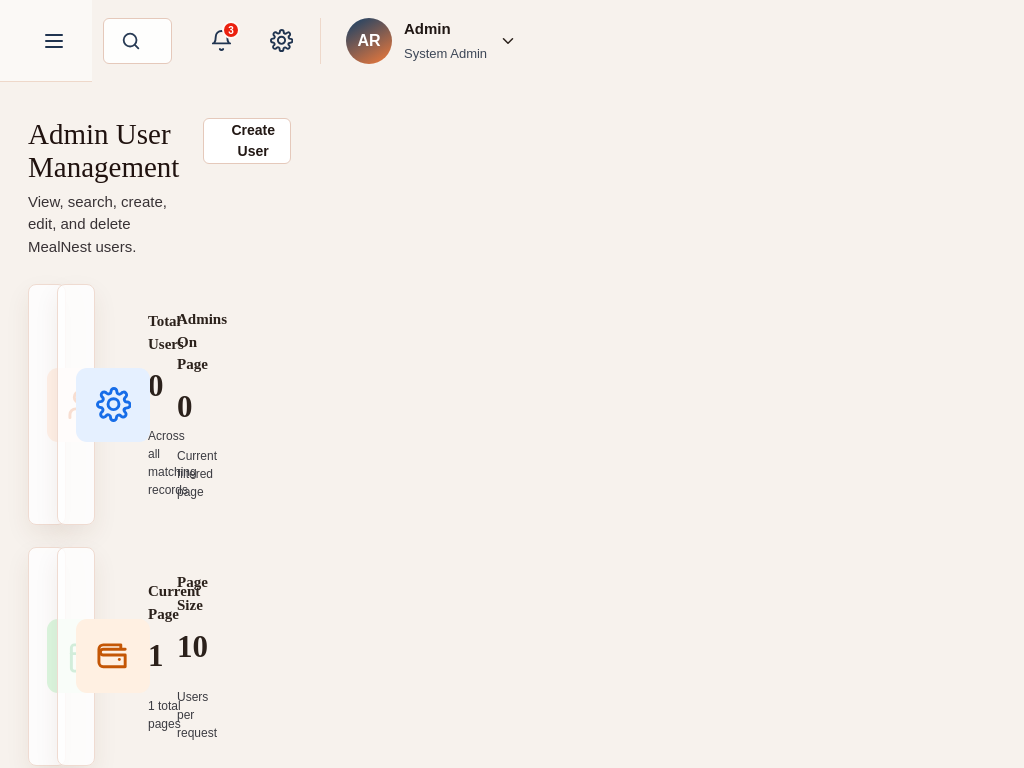
Test: keeps the modal open and shows a serializable action error
Click the button "Create User": (247, 141) [203,118,291,164]
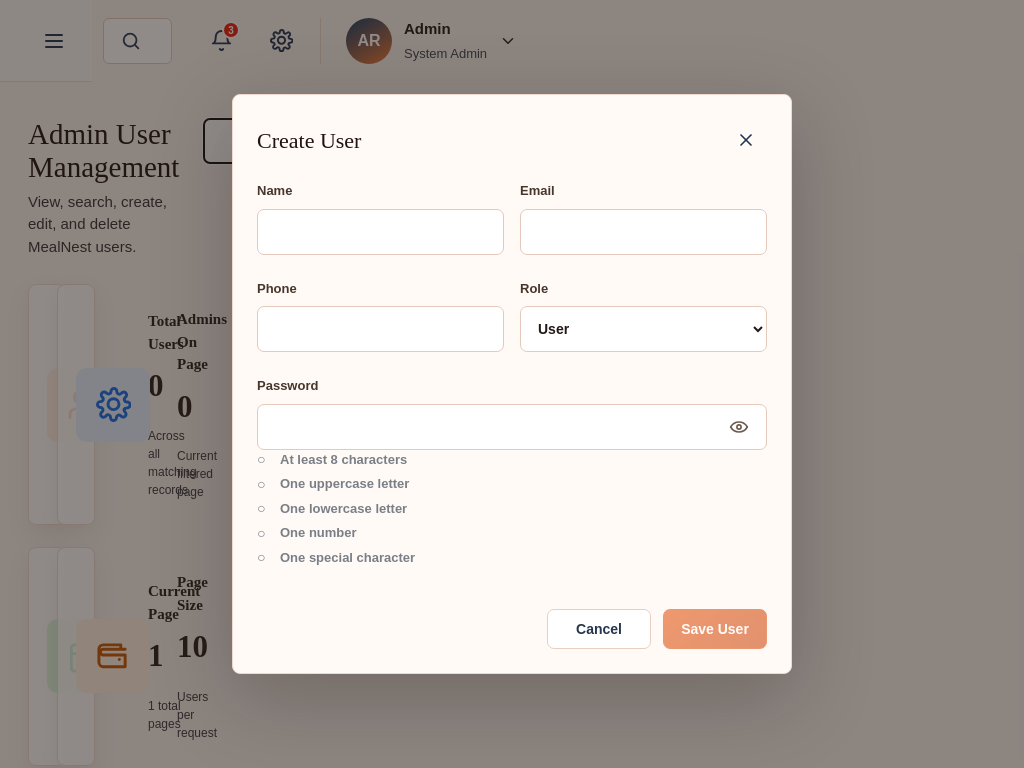
In the field labelled "Name": (380, 232) [257,208,504,254], type "Duplicate User"
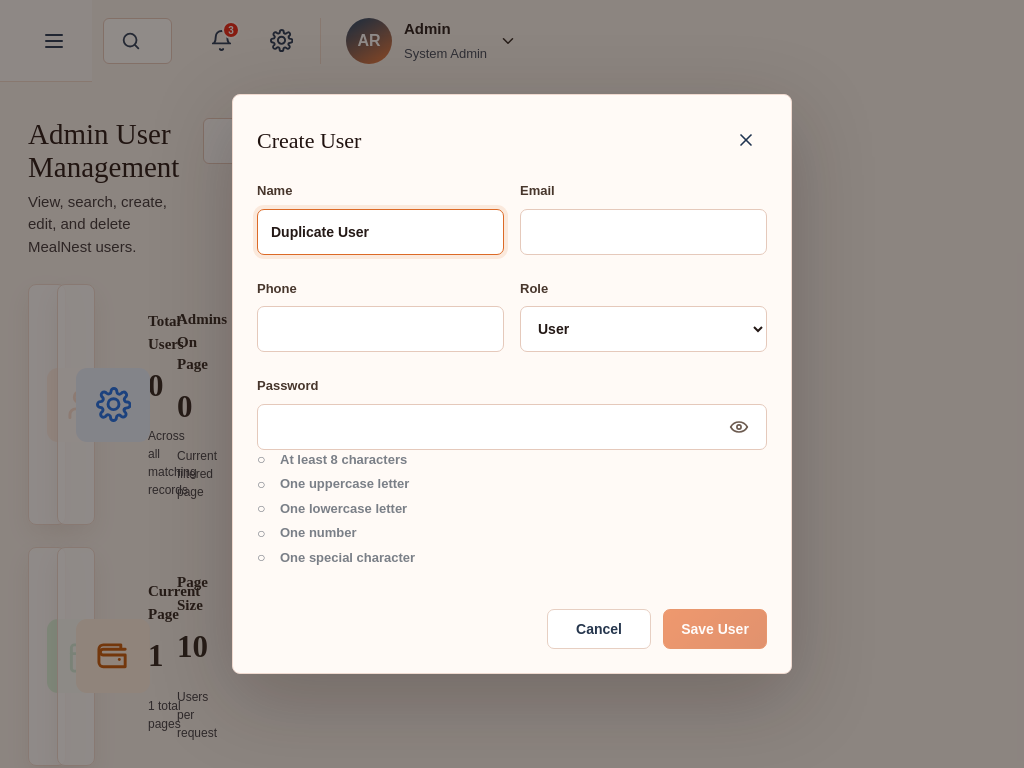
In the field labelled "Email": (644, 232) [520,208,767,254], type "duplicate@example.com"
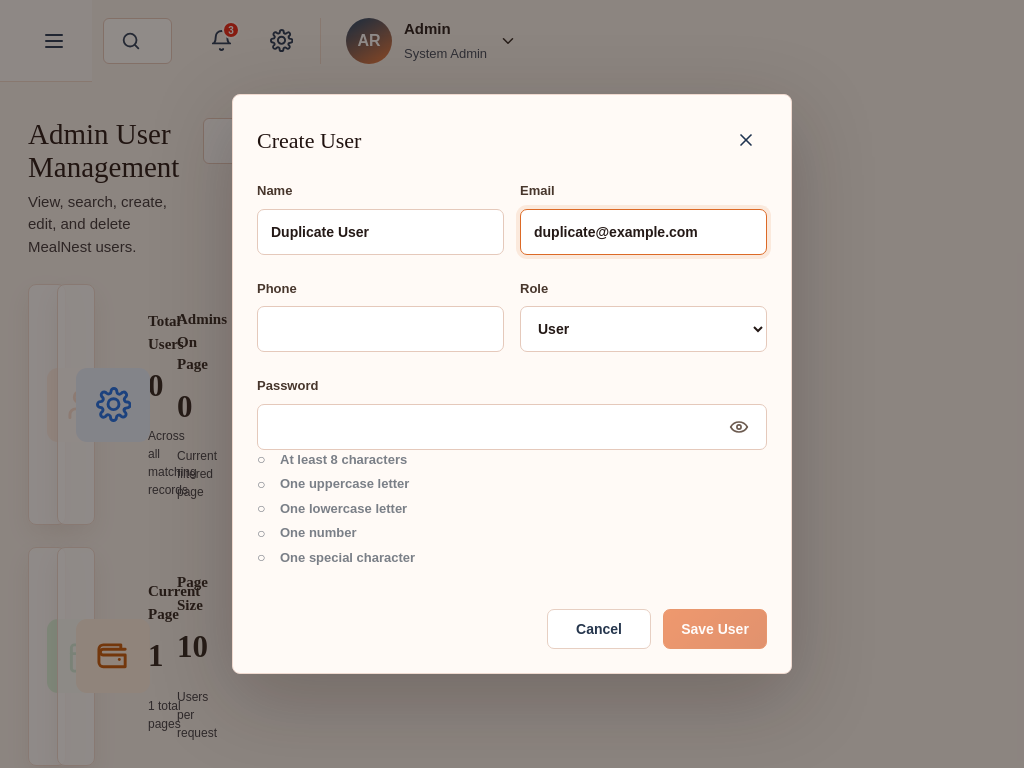
In the field labelled "Phone": (380, 329) [257,306,504,352], type "9845698712"
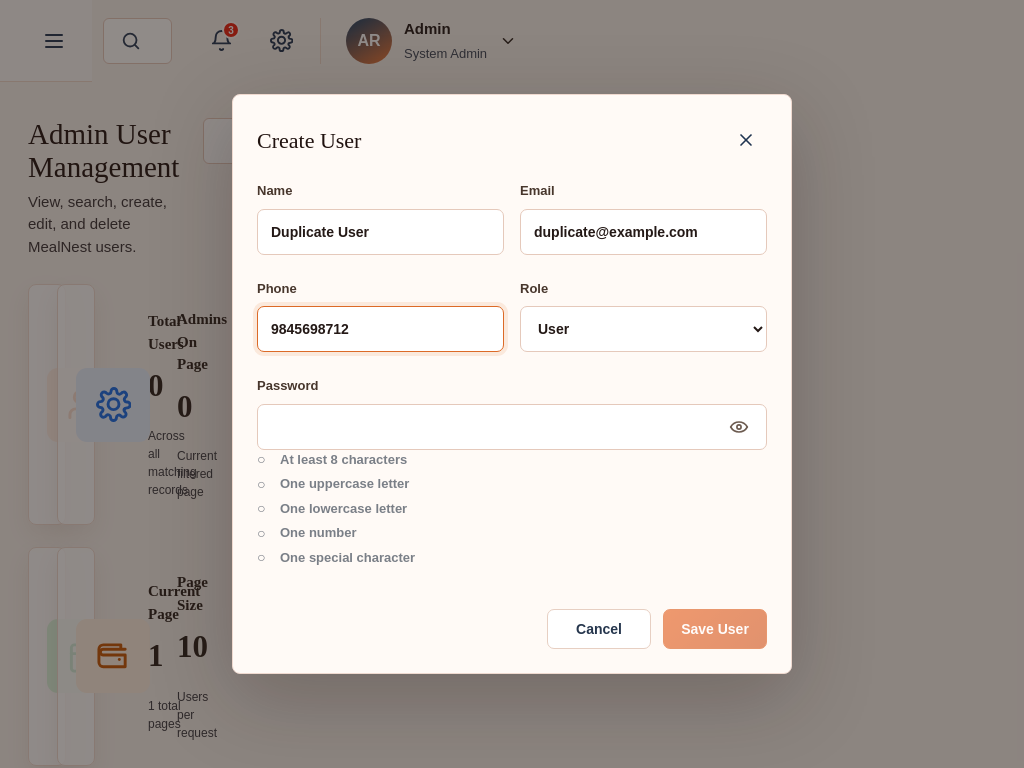
In the password field labelled "Password": (512, 426) [257,404,767,450], type "StrongPass1!"
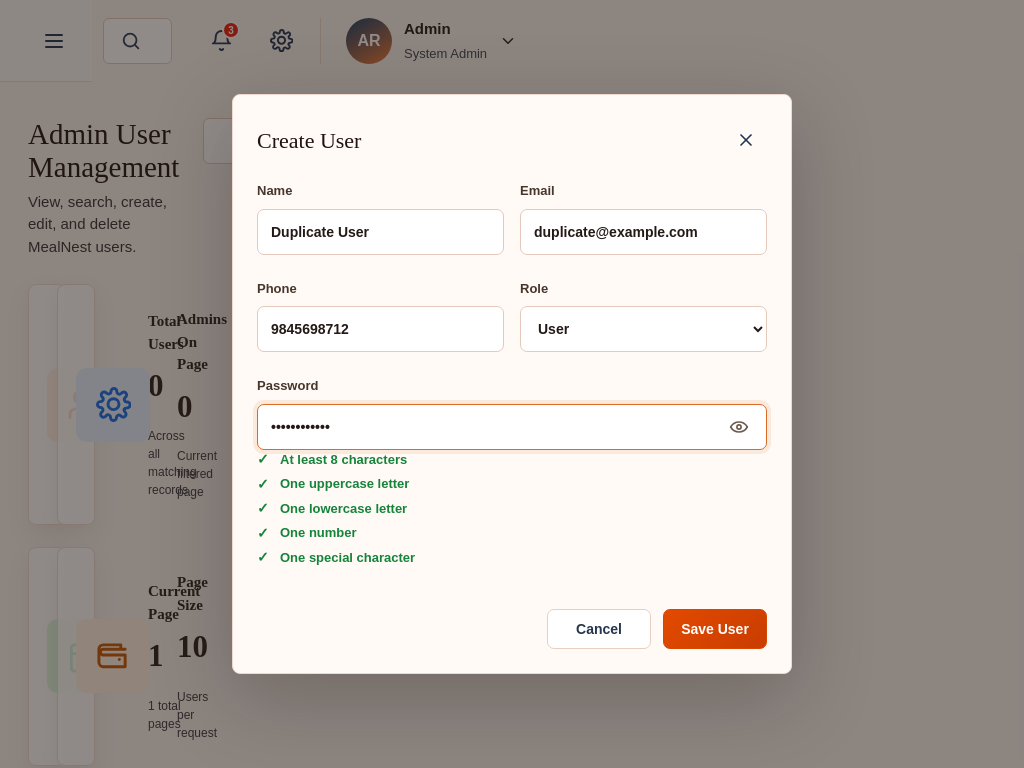
Click the button "Save User": (715, 629) [663,609,767,649]
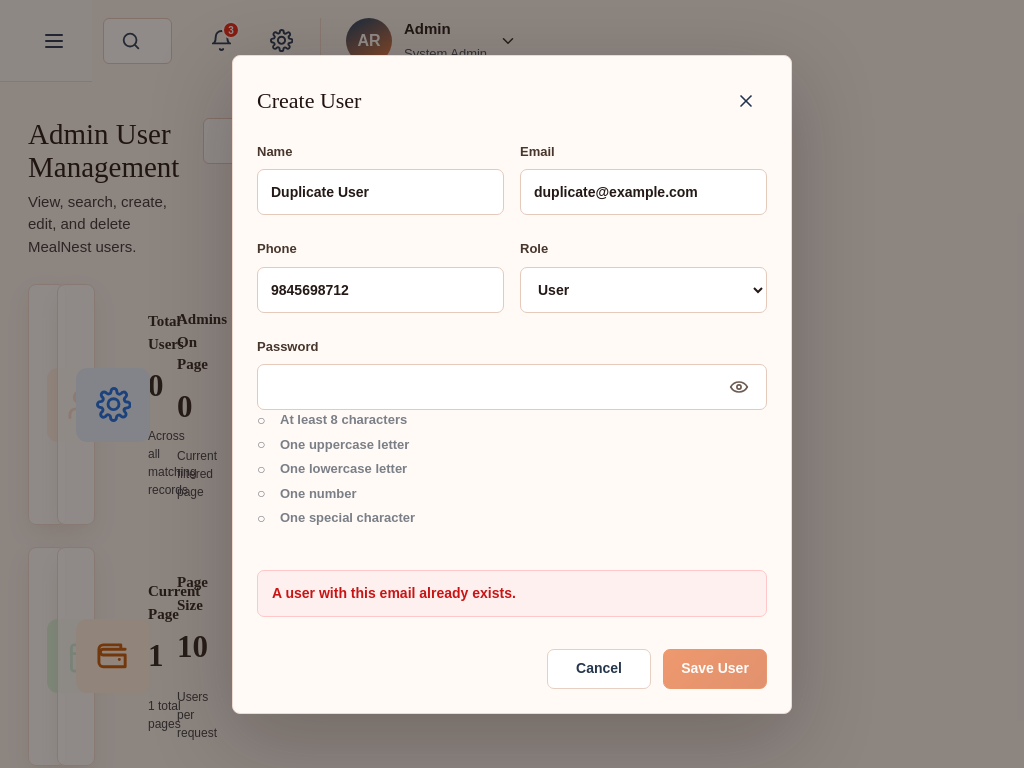
Now the dialog is shown
Now the text "A user with this email already exists." is shown, box [257,570,767,616]
Now the password field labelled "Password" is empty, box [257,364,767,410]
